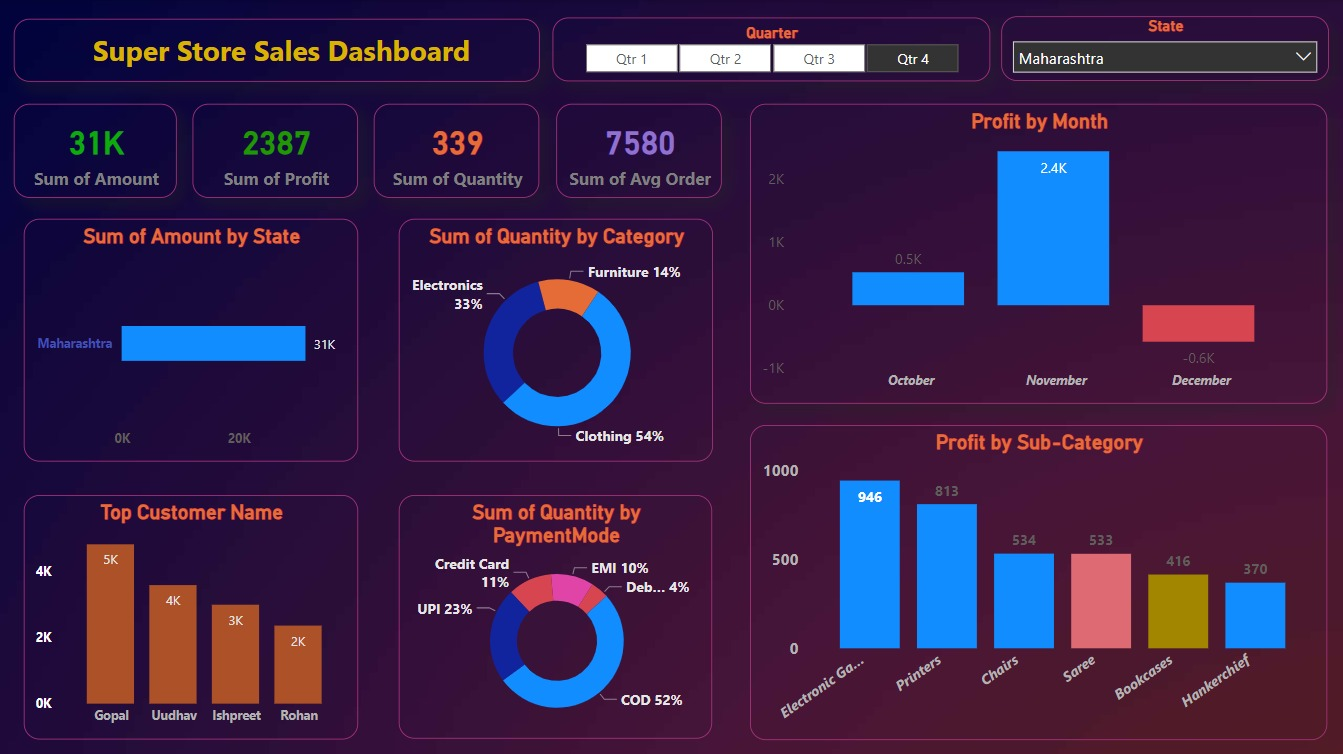

Layout of this report page (visuals, bound fields, positions):
{"tool":"powerbi","page":{"name":"Page 1","canvas":[1280,720],"ordinal":0},"visuals":[{"type":"textbox","box":[13.5,17.4,500.9,60.4],"z":0,"group":"g1"},{"type":"columnChart","title":"Profit by Month","fields":{"Category":["Orders.Order Date.Variation.Date Hierarchy.Month"],"Y":["Sum(Details.Profit)"]},"box":[714,98.8,549.8,285.6],"z":1000,"group":"g1"},{"type":"columnChart","title":"Profit by Sub-Category","fields":{"Category":["Details.Sub-Category"],"Y":["Sum(Details.Profit)"]},"box":[714,404.1,549.5,300.4],"z":2000,"group":"g1"},{"type":"donutChart","fields":{"Category":["Details.Category"],"Y":["Sum(Details.Quantity)"]},"box":[379.1,208.6,299.2,231.3],"z":3000,"group":"g1"},{"type":"donutChart","fields":{"Y":["Sum(Details.Quantity)"],"Category":["Details.PaymentMode"]},"box":[379.6,471.3,298.7,232.1],"z":4000,"group":"g1"},{"type":"card","fields":{"Values":["Sum(Details.Amount)"]},"box":[13.1,98.9,155,89.4],"z":5000,"group":"g1"},{"type":"card","fields":{"Values":["Sum(Details.Profit)"]},"box":[183.6,98.9,157.3,89.4],"z":6000,"group":"g1"},{"type":"card","fields":{"Values":["Sum(Details.Quantity)"]},"box":[356.4,98.9,157.3,89.4],"z":7000,"group":"g1"},{"type":"card","fields":{"Values":["Sum(Details.Avg Order)"]},"box":[529.2,98.9,157.3,89.4],"z":8000,"group":"g1"},{"type":"clusteredBarChart","fields":{"Category":["Orders.State"],"Y":["Sum(Details.Amount)"]},"box":[22.6,208.6,318.3,231.3],"z":9000,"group":"g1"},{"type":"columnChart","title":"Top Customer Name","fields":{"Category":["Orders.CustomerName"],"Y":["Sum(Details.Amount)"]},"box":[22.6,470.9,318.3,232.4],"z":10000,"group":"g1"},{"type":"slicer","title":"Quarter","fields":{"Values":["Orders.Order Date.Variation.Date Hierarchy.Quarter"]},"box":[525.6,17.1,416.5,60.7],"z":11000,"group":"g1"},{"type":"slicer","title":"State","fields":{"Values":["Orders.State"]},"box":[953.4,15.5,311.8,61.9],"z":13000,"group":"g1"},{"type":"group","id":"g1","title":"Group 1","box":[13.1,15.5,1252,689.1],"z":13001}]}

Visuals, with their boxes in screenshot pixels (x1, y1, x2, y2), scaled from the page's 1280x720 canvas onto the 1343x754 screenshot:
textbox: 14 18 540 81
"Profit by Month" columnChart: 749 103 1326 403
"Profit by Sub-Category" columnChart: 749 423 1326 738
donutChart - Details.Category x Sum(Details.Quantity): 398 218 712 461
donutChart - Sum(Details.Quantity) x Details.PaymentMode: 398 494 712 737
card - Sum(Details.Amount): 14 104 176 197
card - Sum(Details.Profit): 193 104 358 197
card - Sum(Details.Quantity): 374 104 539 197
card - Sum(Details.Avg Order): 555 104 720 197
clusteredBarChart - Orders.State x Sum(Details.Amount): 24 218 358 461
"Top Customer Name" columnChart: 24 493 358 737
"Quarter" slicer: 551 18 988 81
"State" slicer: 1000 16 1327 81
"Group 1" group: 14 16 1327 738
